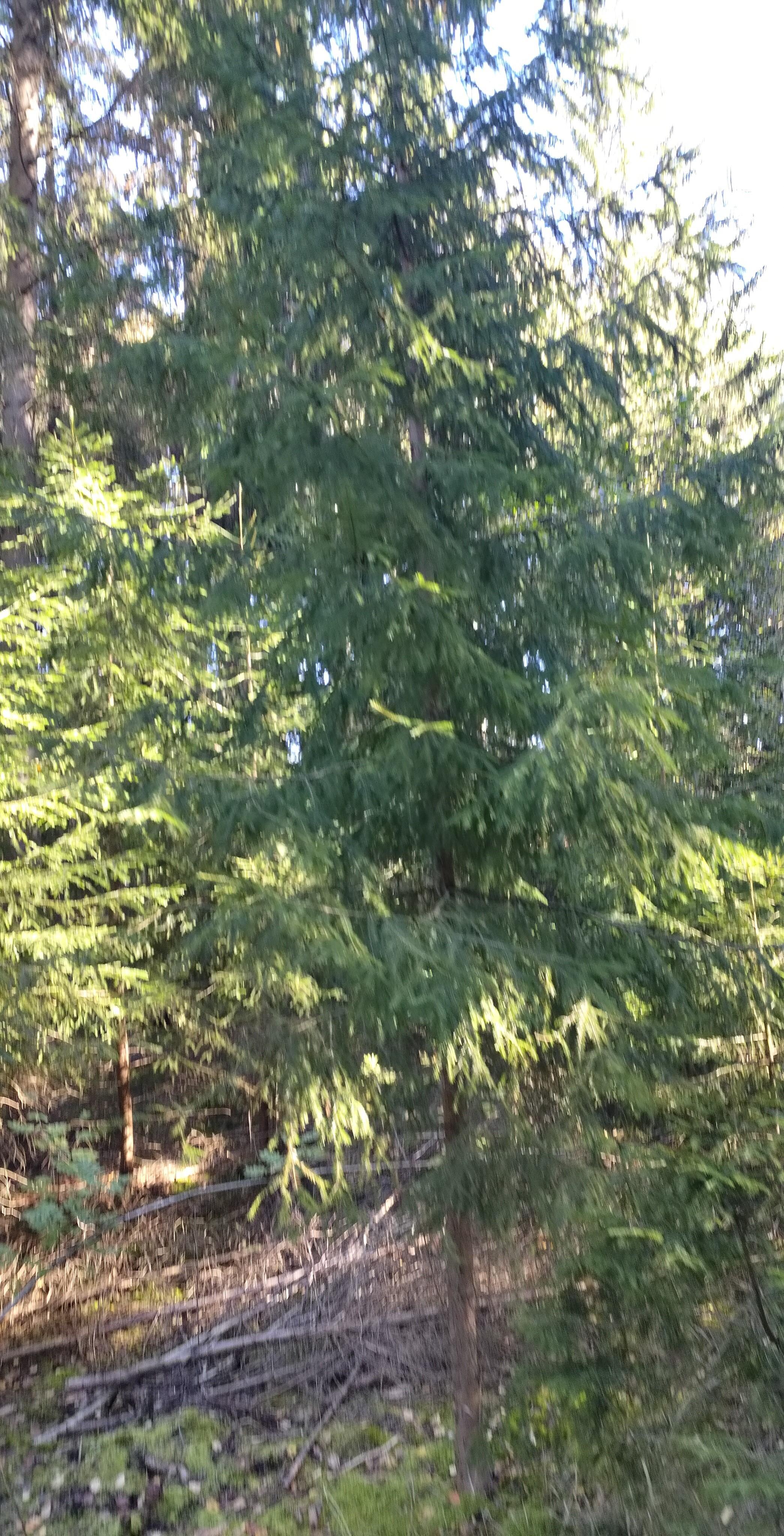Spruce: (158, 0, 729, 1534)
